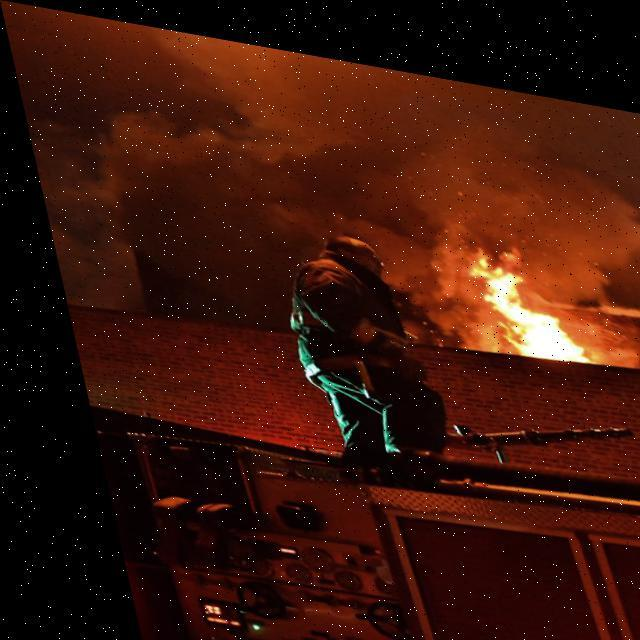Fire: (452, 230, 600, 350)
